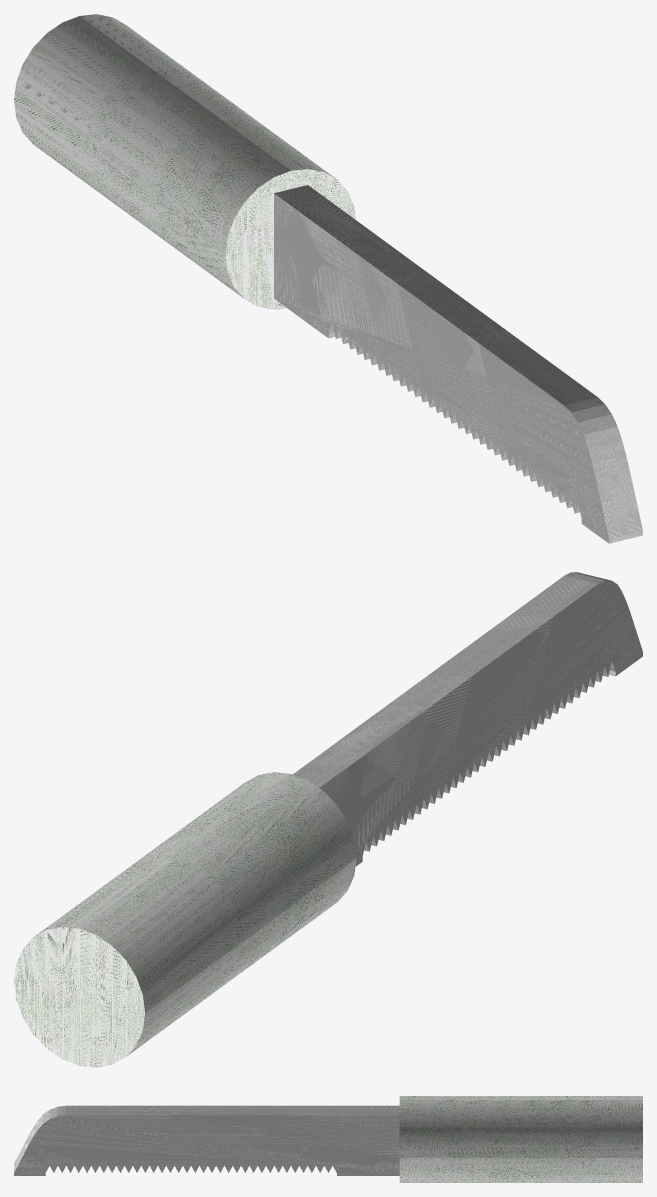
Rendered from model_align.obj.
3 views of the same model, one above another, from view 1: azimuth 30°, elevation 25°; view 2: azimuth 150°, elevation 25°; view 3: azimuth 270°, elevation 25° (orthographic). The views are drawn at different scales.
Parts seen in each view (by area): view 1: mesh1_mesh1-geometry; view 2: mesh1_mesh1-geometry; view 3: mesh1_mesh1-geometry.
Part boxes in pixels (x1=…): mesh1_mesh1-geometry: x1=14, y1=14, x2=642, y2=543; mesh1_mesh1-geometry: x1=14, y1=572, x2=642, y2=1067; mesh1_mesh1-geometry: x1=14, y1=1096, x2=642, y2=1182.
Size of the model in its own units: 0.0287 by 0.0287 by 0.2073.
3 materials, 1 textured.
